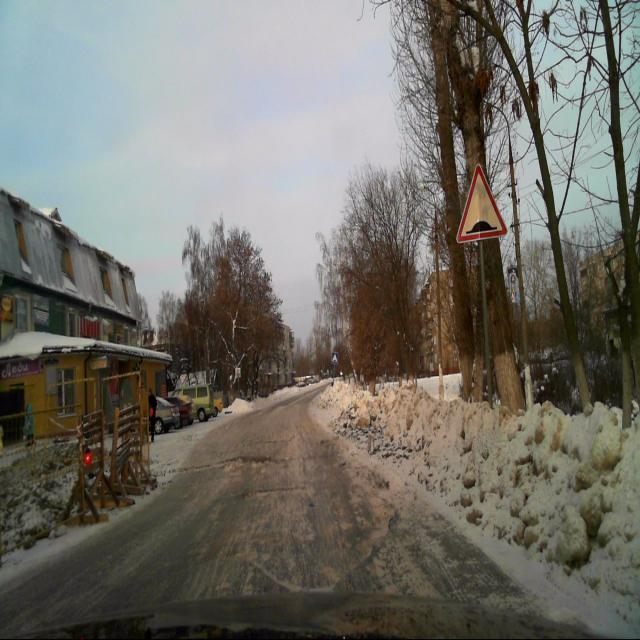road sign: (456, 166, 508, 243), (478, 239, 494, 411), (332, 365, 336, 387), (332, 353, 338, 365)
